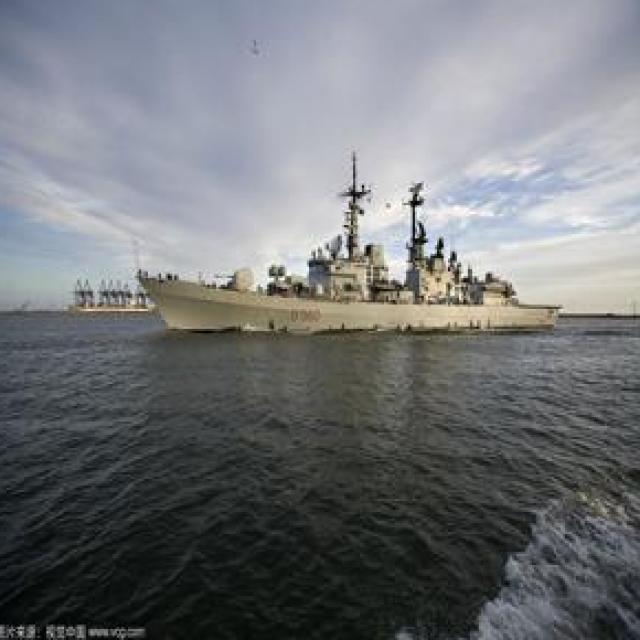navalvessels: (130, 156, 568, 338)
